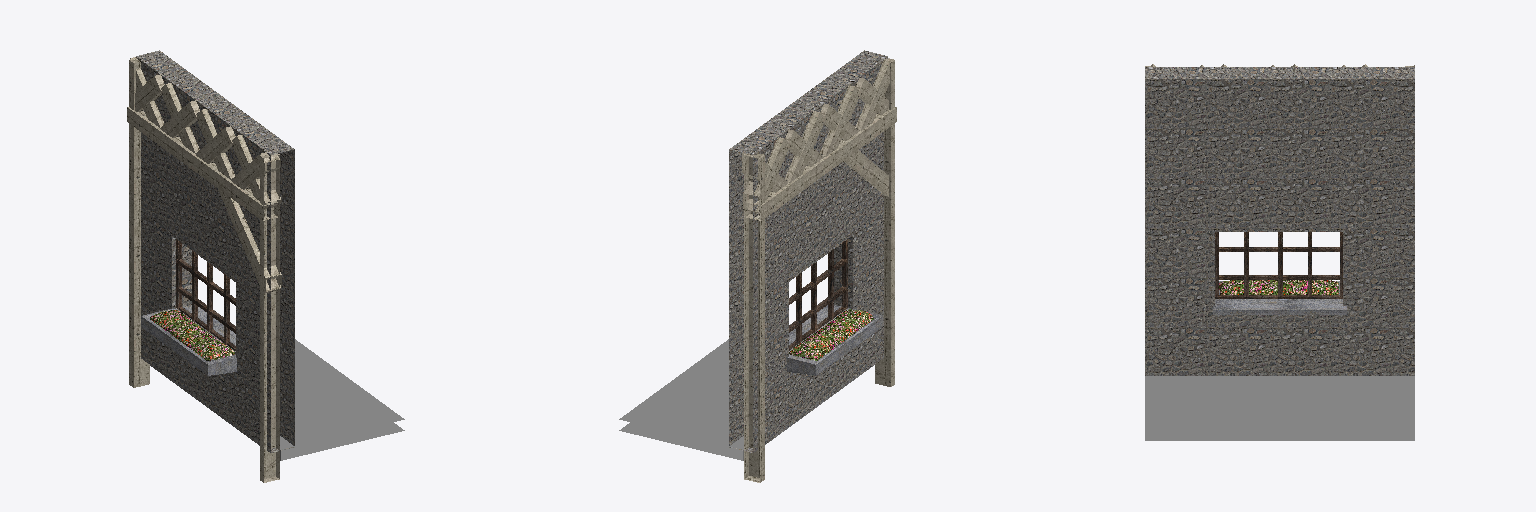
3 renders of one model, left to right at view 1: azimuth 30°, elevation 25°; view 2: azimuth 150°, elevation 25°; view 3: azimuth 270°, elevation 25°, orthographic.
Parts seen in each view (by area): view 1: WallStraight; view 2: WallStraight; view 3: WallStraight.
Part boxes in pixels (x1,y1,x2,y2): WallStraight: (127,50,404,482); WallStraight: (619,50,896,482); WallStraight: (1145,64,1414,440).
Bounding box in the file's own units: 5.18 × 9.92 × 7.45.
Materials: 6 (5 with a texture image).